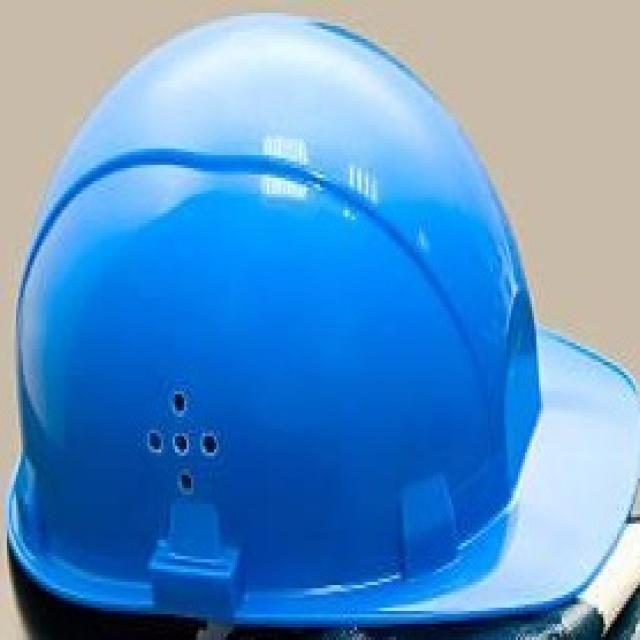blue helmet: (5, 10, 640, 631)
